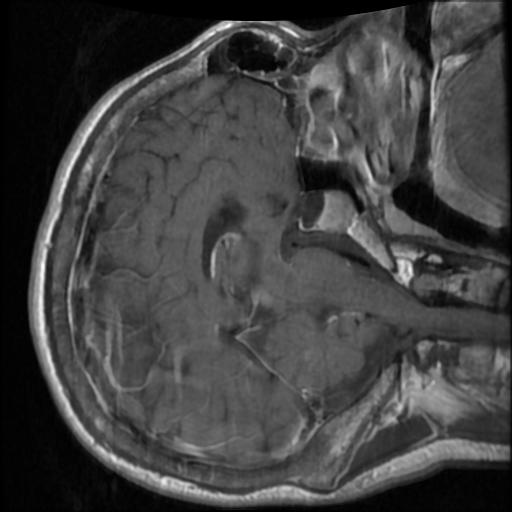pituitary tumour: (319, 193, 353, 231)
